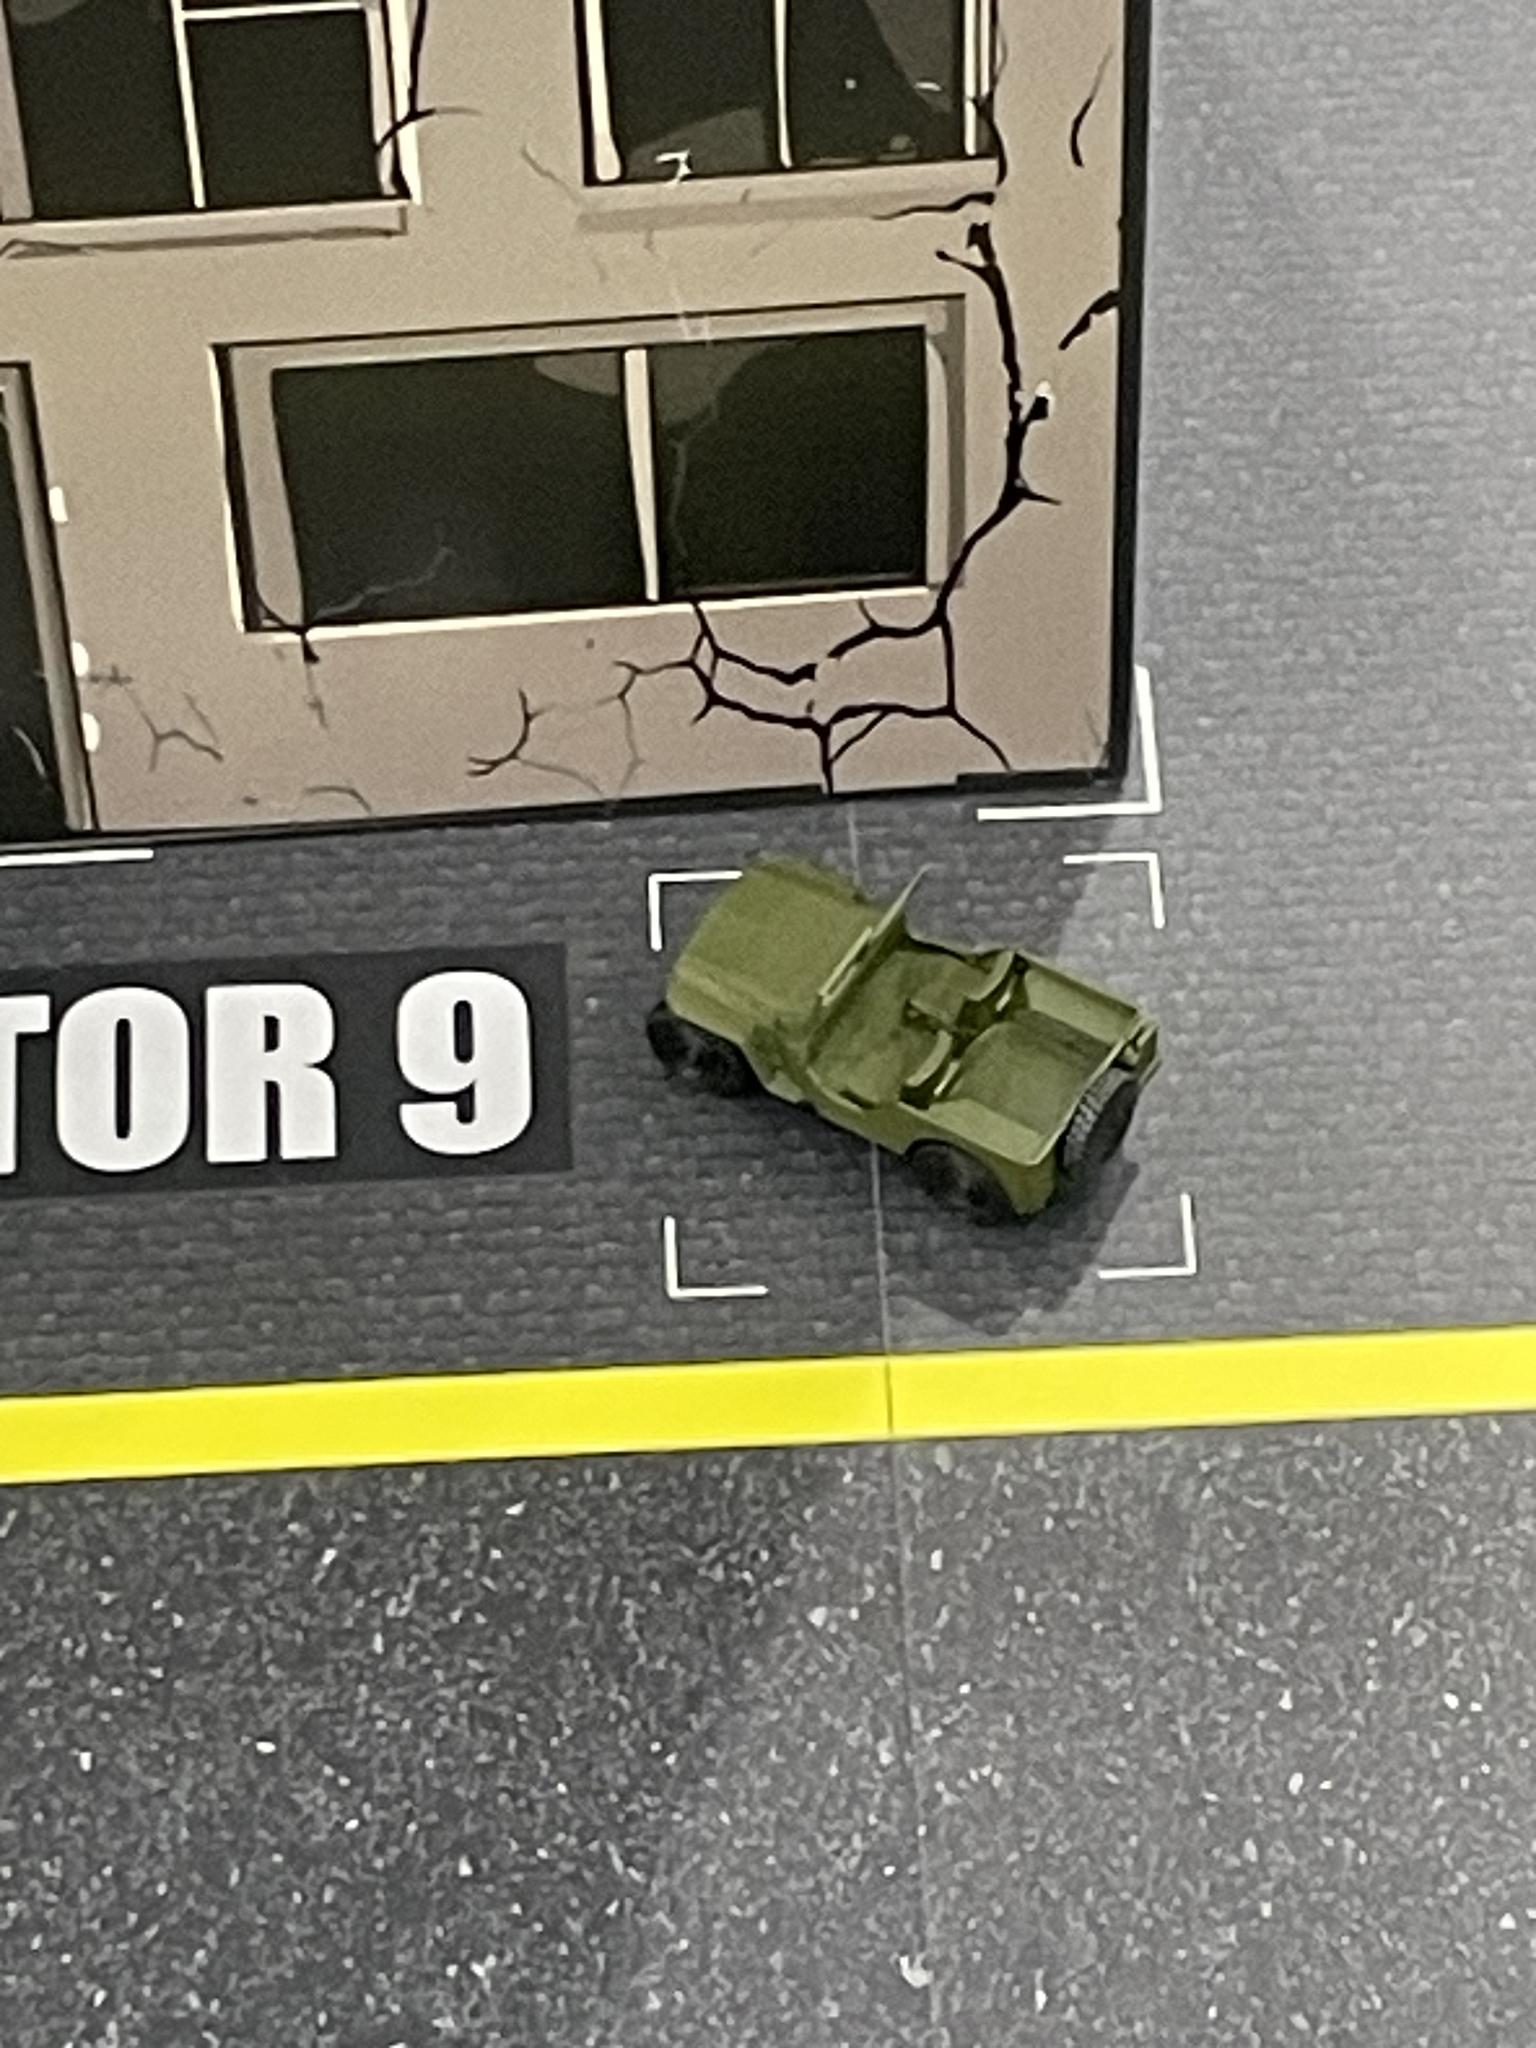Car: (641, 835, 1178, 1237)
